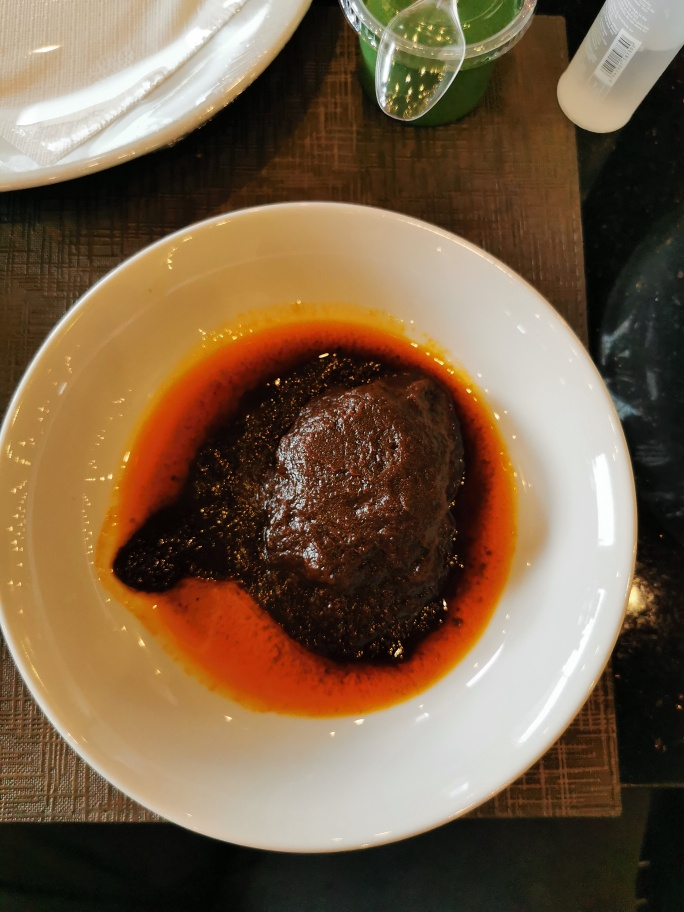rendang: (196, 343, 463, 659)
